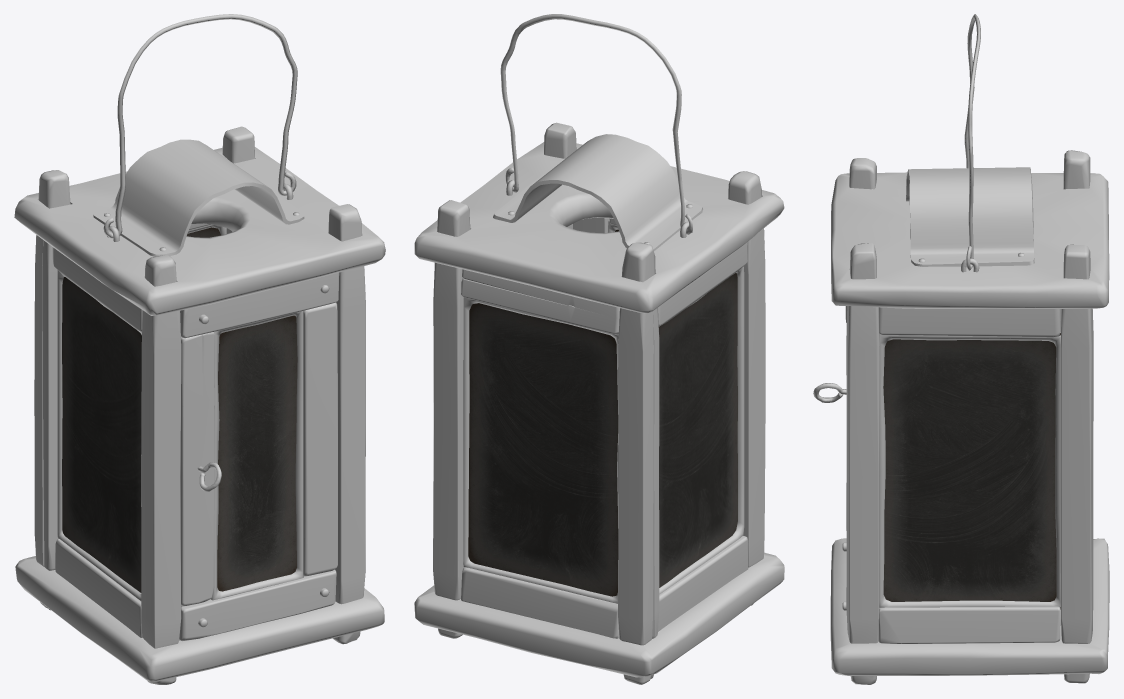
File: wooden_lantern_01_1k.gltf
The picture shows the model from 3 angles, left to right: view 1: azimuth 30°, elevation 25°; view 2: azimuth 150°, elevation 25°; view 3: azimuth 270°, elevation 25°; orthographic projection.
Parts seen in each view (by area): view 1: wooden_lantern_01, wooden_lantern_01_door, wooden_lantern_01_handle; view 2: wooden_lantern_01, wooden_lantern_01_handle, wooden_lantern_01_door; view 3: wooden_lantern_01, wooden_lantern_01_handle, wooden_lantern_01_door.
Part boxes in pixels (x1=…): wooden_lantern_01: x1=14, y1=126, x2=385, y2=684; wooden_lantern_01_door: x1=179, y1=272, x2=339, y2=641; wooden_lantern_01_handle: x1=103, y1=14, x2=297, y2=238; wooden_lantern_01: x1=414, y1=122, x2=784, y2=684; wooden_lantern_01_handle: x1=500, y1=14, x2=692, y2=234; wooden_lantern_01_door: x1=573, y1=217, x2=618, y2=233; wooden_lantern_01: x1=830, y1=150, x2=1109, y2=684; wooden_lantern_01_handle: x1=964, y1=14, x2=980, y2=270; wooden_lantern_01_door: x1=813, y1=306, x2=847, y2=610.
Bounding box in the file's own units: 0.221 × 0.5301 × 0.2347.
